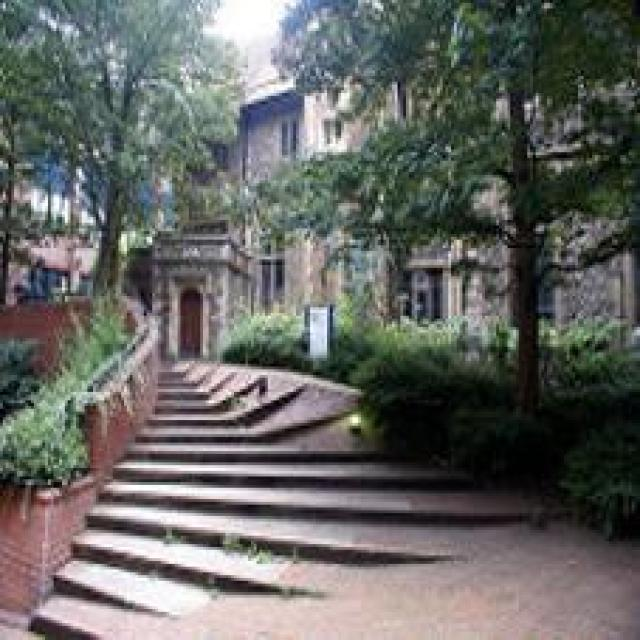upstair: (57, 345, 455, 599)
